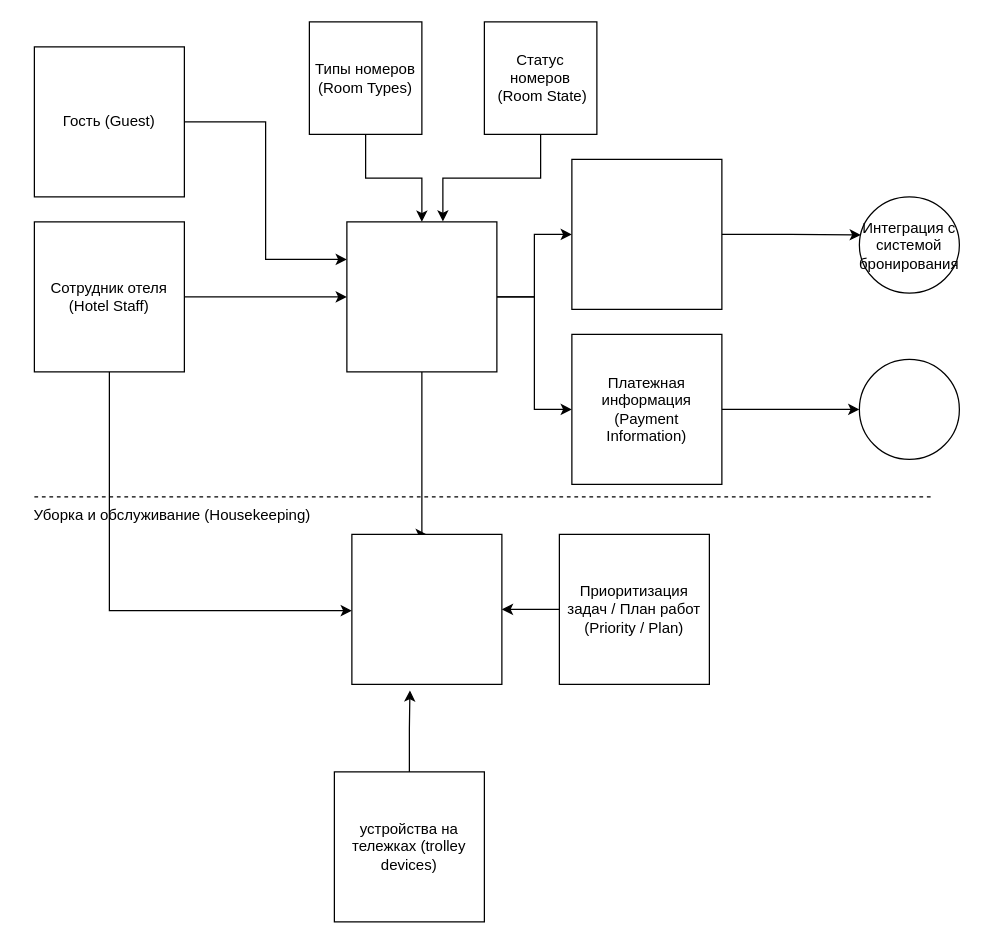
This 981x944 diagram has some shape labels left out. Each missing label, with the box of its shape:
Задачи (Housekeeping Tasks): (351, 533, 502, 684)
Интеграция с платежной системой.: (858, 358, 959, 459)
Номер (Room): (346, 221, 497, 372)
Правила бронирования (Reservation Rules): (571, 158, 722, 309)
